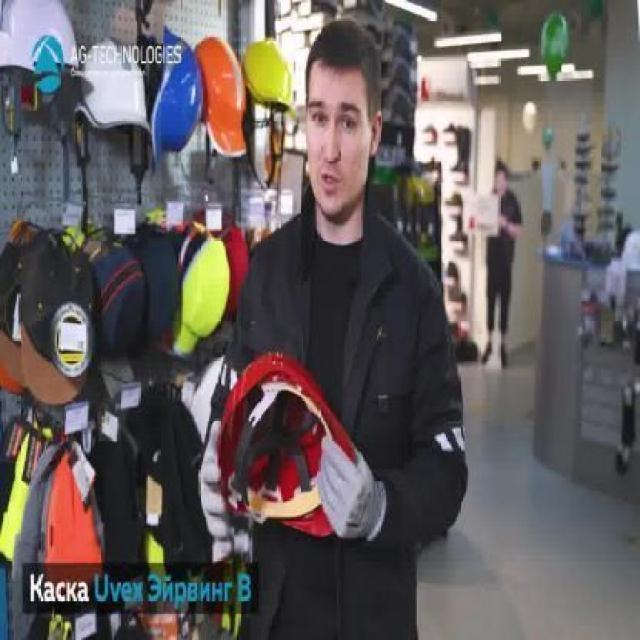apron: (316, 434, 382, 540), (197, 414, 236, 548)
